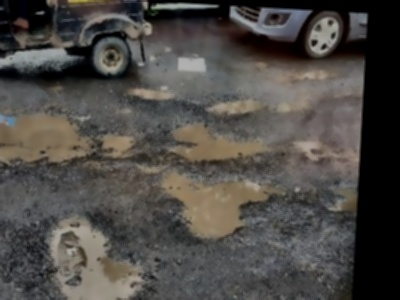pothole: (35, 206, 151, 300), (154, 165, 273, 246), (0, 100, 98, 176), (166, 118, 274, 165), (209, 92, 266, 117), (97, 128, 138, 158), (324, 182, 357, 217), (126, 83, 177, 103)
